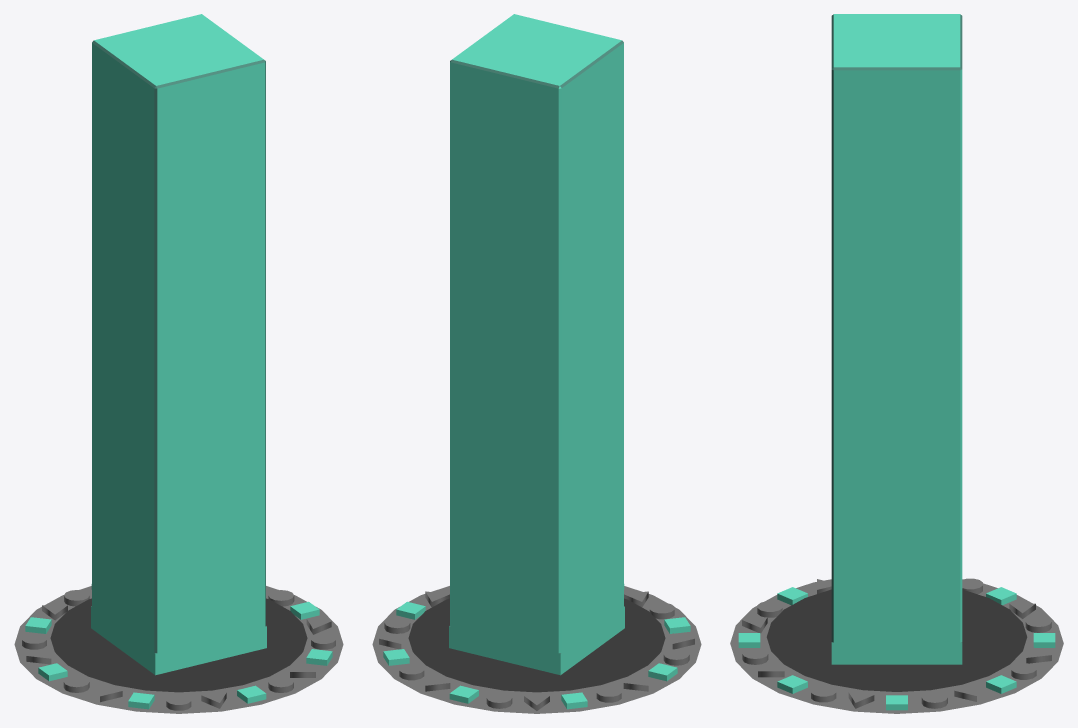
File: base_square_objects.fbx
3 views of the same model, side by side, from view 1: azimuth 30°, elevation 25°; view 2: azimuth 150°, elevation 25°; view 3: azimuth 270°, elevation 25° (orthographic).
Parts seen in each view (by area): view 1: tube_square, PT_square, plateau_square, tube_square001; view 2: tube_square, PT_square, plateau_square, tube_square001; view 3: tube_square, PT_square, plateau_square, tube_square001.
Part boxes in pixels (x1,y1,x2,y2): tube_square: [92, 14, 265, 673]; PT_square: [14, 584, 343, 713]; plateau_square: [50, 598, 307, 692]; tube_square001: [91, 606, 266, 675]; tube_square: [450, 14, 623, 670]; PT_square: [372, 584, 701, 713]; plateau_square: [408, 598, 665, 692]; tube_square001: [449, 606, 624, 675]; tube_square: [831, 14, 962, 664]; PT_square: [730, 578, 1063, 713]; plateau_square: [766, 589, 1027, 691]; tube_square001: [831, 642, 962, 664].
Size of the model in its own units: 30.13 by 30.13 by 60.06.
